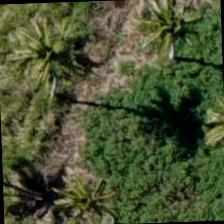Kelapa_Sawit: (0, 18, 84, 112), (120, 0, 214, 78), (39, 151, 132, 223)
